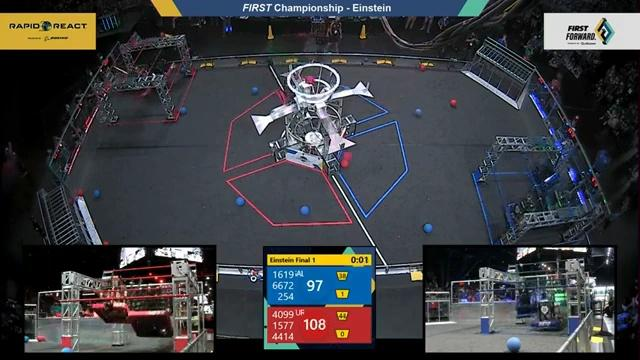robot: (540, 183, 589, 228), (520, 145, 564, 191), (110, 55, 151, 99), (499, 191, 539, 233), (129, 302, 173, 338), (140, 47, 181, 85), (94, 291, 130, 325), (533, 295, 566, 332), (515, 285, 536, 322)
